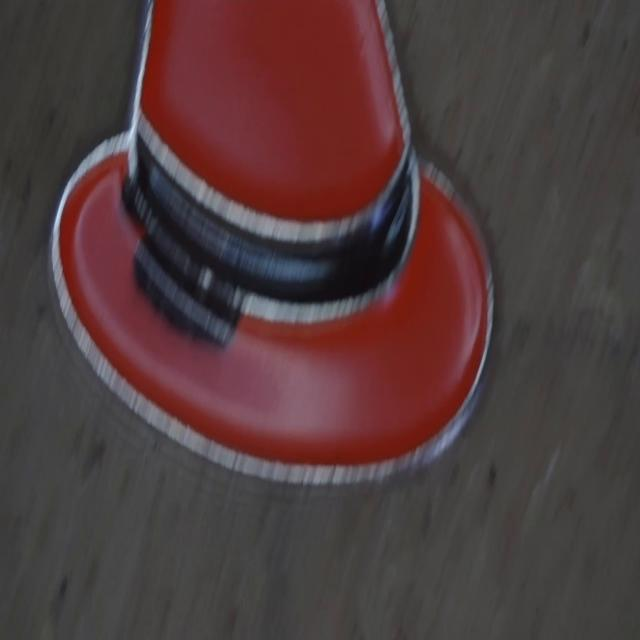Hatband: (138, 140, 418, 302)
Paint_Leak: (124, 176, 245, 344)
RedHatPin: (51, 0, 492, 482)
